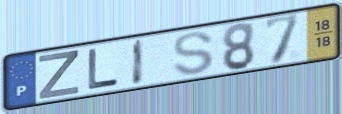7: (264, 11, 303, 67)
8: (220, 21, 257, 72)
I: (131, 37, 146, 87)
L: (86, 46, 121, 92)
S: (171, 30, 216, 77)
Z: (36, 49, 81, 101)
